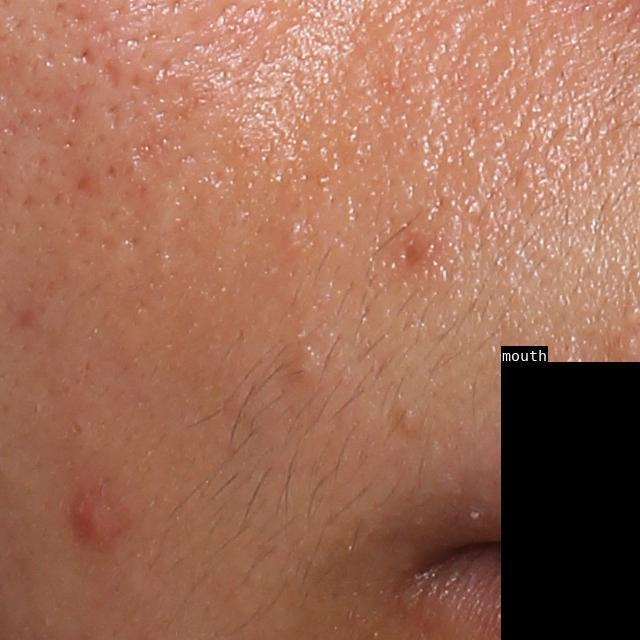atrophic_scar: (99, 58, 125, 91)
